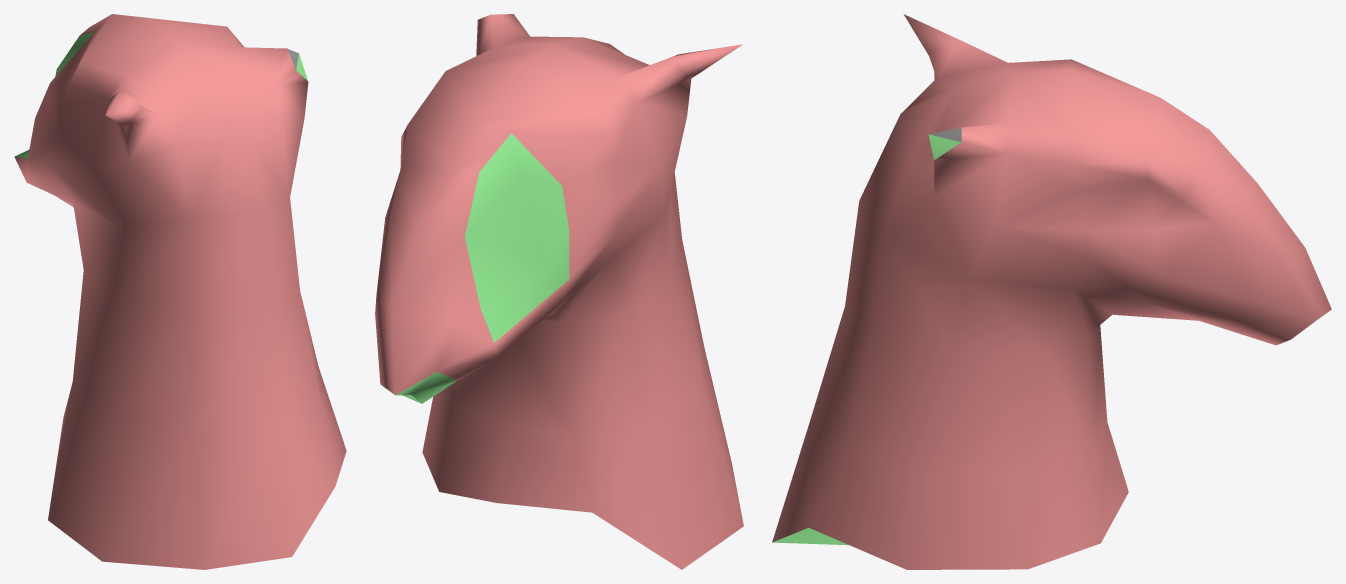
Rendered from SSQ_statue03_b03.gltf.
The picture shows the model from 3 angles, left to right: view 1: azimuth 30°, elevation 25°; view 2: azimuth 150°, elevation 25°; view 3: azimuth 270°, elevation 25°; orthographic projection. The views are drawn at different scales.
Visible parts, largest first — view 1: SSQ_statue03_b03; view 2: SSQ_statue03_b03; view 3: SSQ_statue03_b03.
Part boxes in pixels (box(x1,y1,x2,y2)): SSQ_statue03_b03: box(14, 14, 346, 569); SSQ_statue03_b03: box(375, 14, 743, 569); SSQ_statue03_b03: box(772, 14, 1331, 569).
Size of the model in its own units: 0.2054 by 0.3655 by 0.3766.
